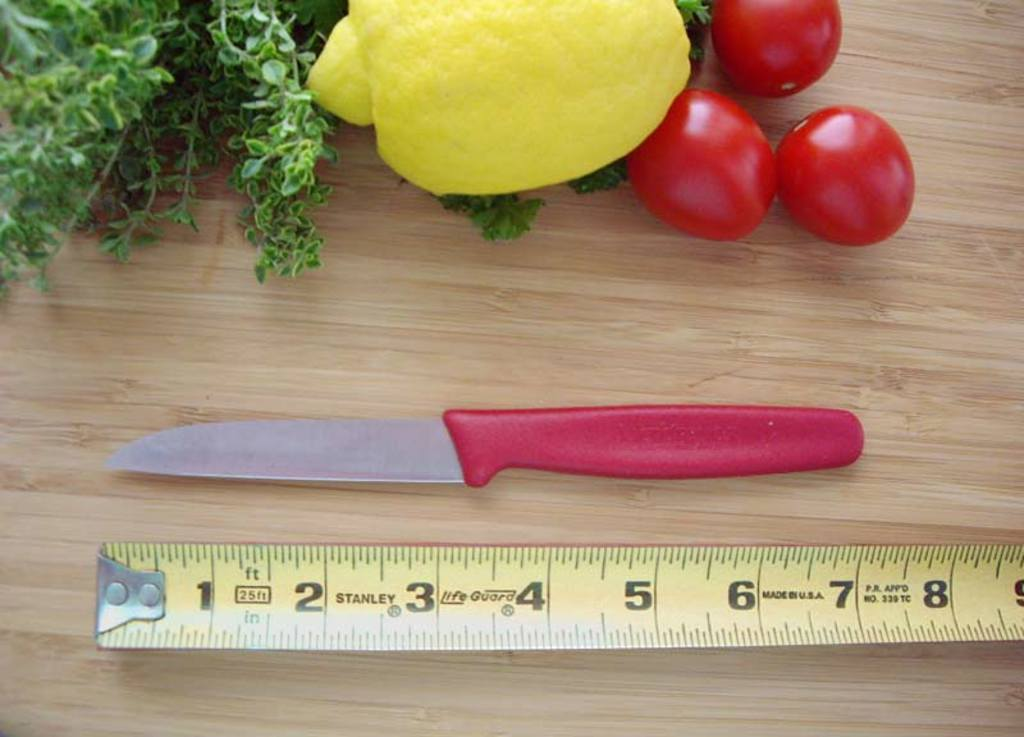kitchen knife: (102, 395, 866, 493)
